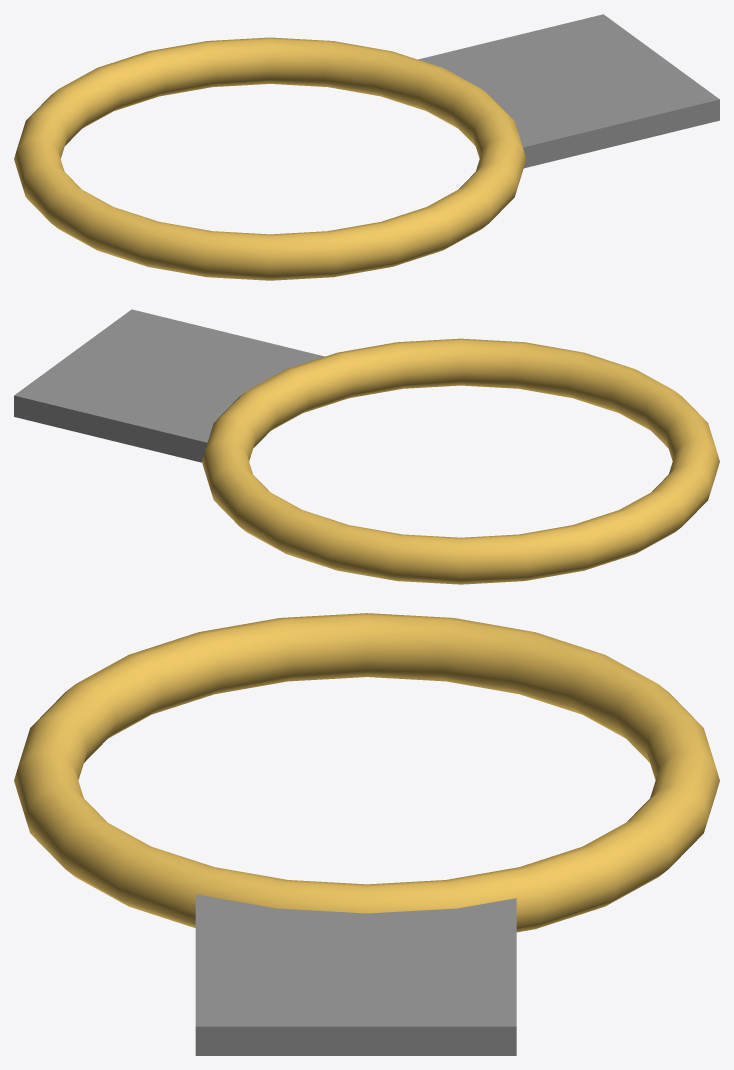
The model's file is RingColor.FBX.
3 views of the same model, one above another, from view 1: azimuth 30°, elevation 25°; view 2: azimuth 150°, elevation 25°; view 3: azimuth 270°, elevation 25° (orthographic). The views are drawn at different scales.
Visible parts, largest first — view 1: Torus001, Box001; view 2: Torus001, Box001; view 3: Torus001, Box001.
Part boxes in pixels (box(x1,y1,x2,y2)): Torus001: box(14, 37, 526, 280); Box001: box(418, 14, 719, 168); Torus001: box(202, 338, 719, 584); Box001: box(14, 309, 324, 462); Torus001: box(14, 613, 719, 932); Box001: box(195, 894, 516, 1055).
Bounding box in the file's own units: 119 × 7.87 × 86.61.
